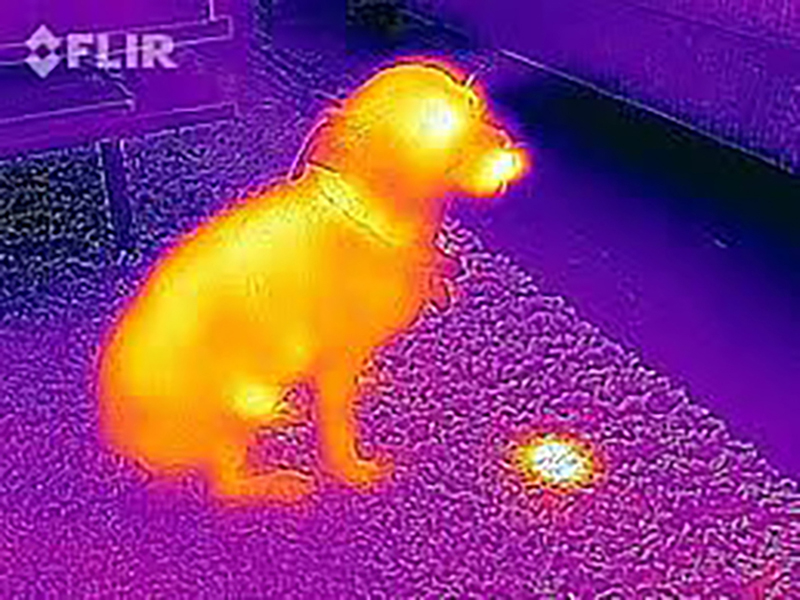cane da caccia: (81, 61, 533, 524)
